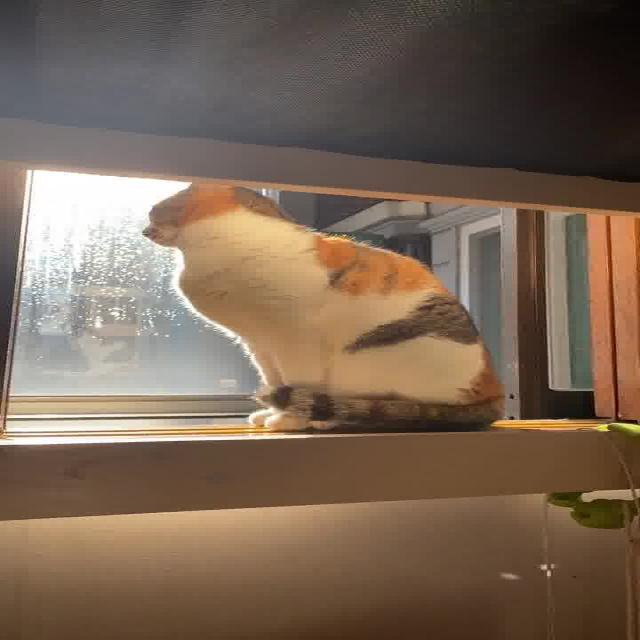cat: (98, 156, 537, 442)
